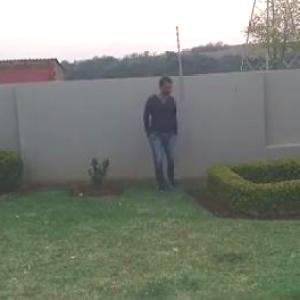follow: (141, 69, 179, 199)
